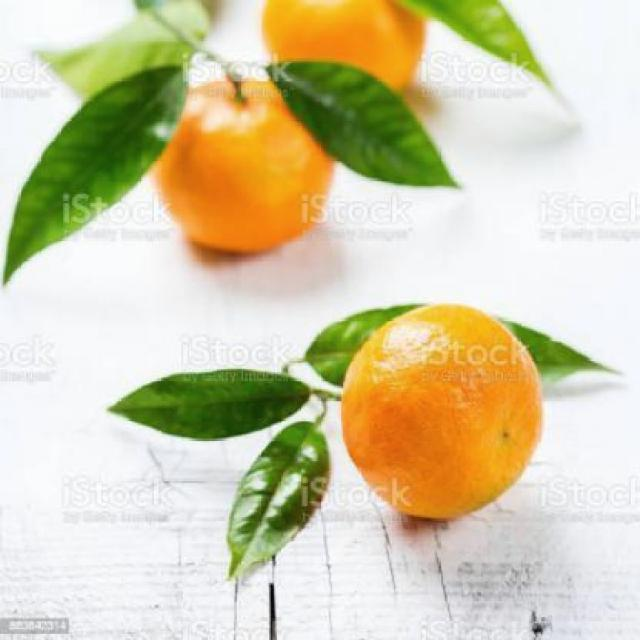Jeruk Sudah Matang: (336, 296, 542, 526), (148, 76, 330, 253), (260, 0, 429, 108)
